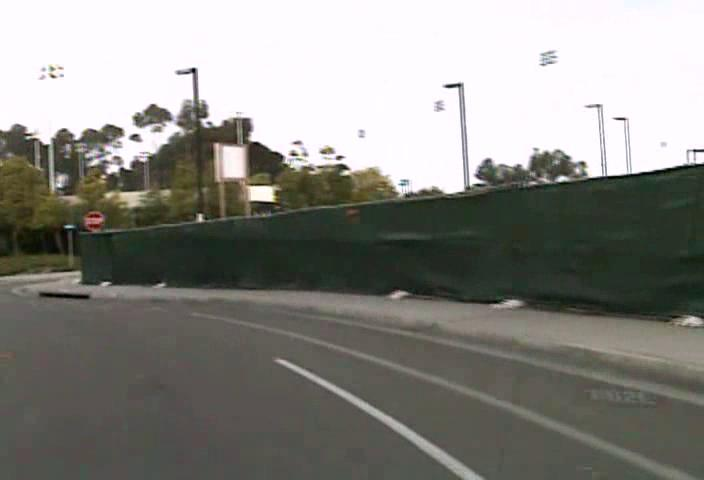stop: (83, 209, 105, 232)
